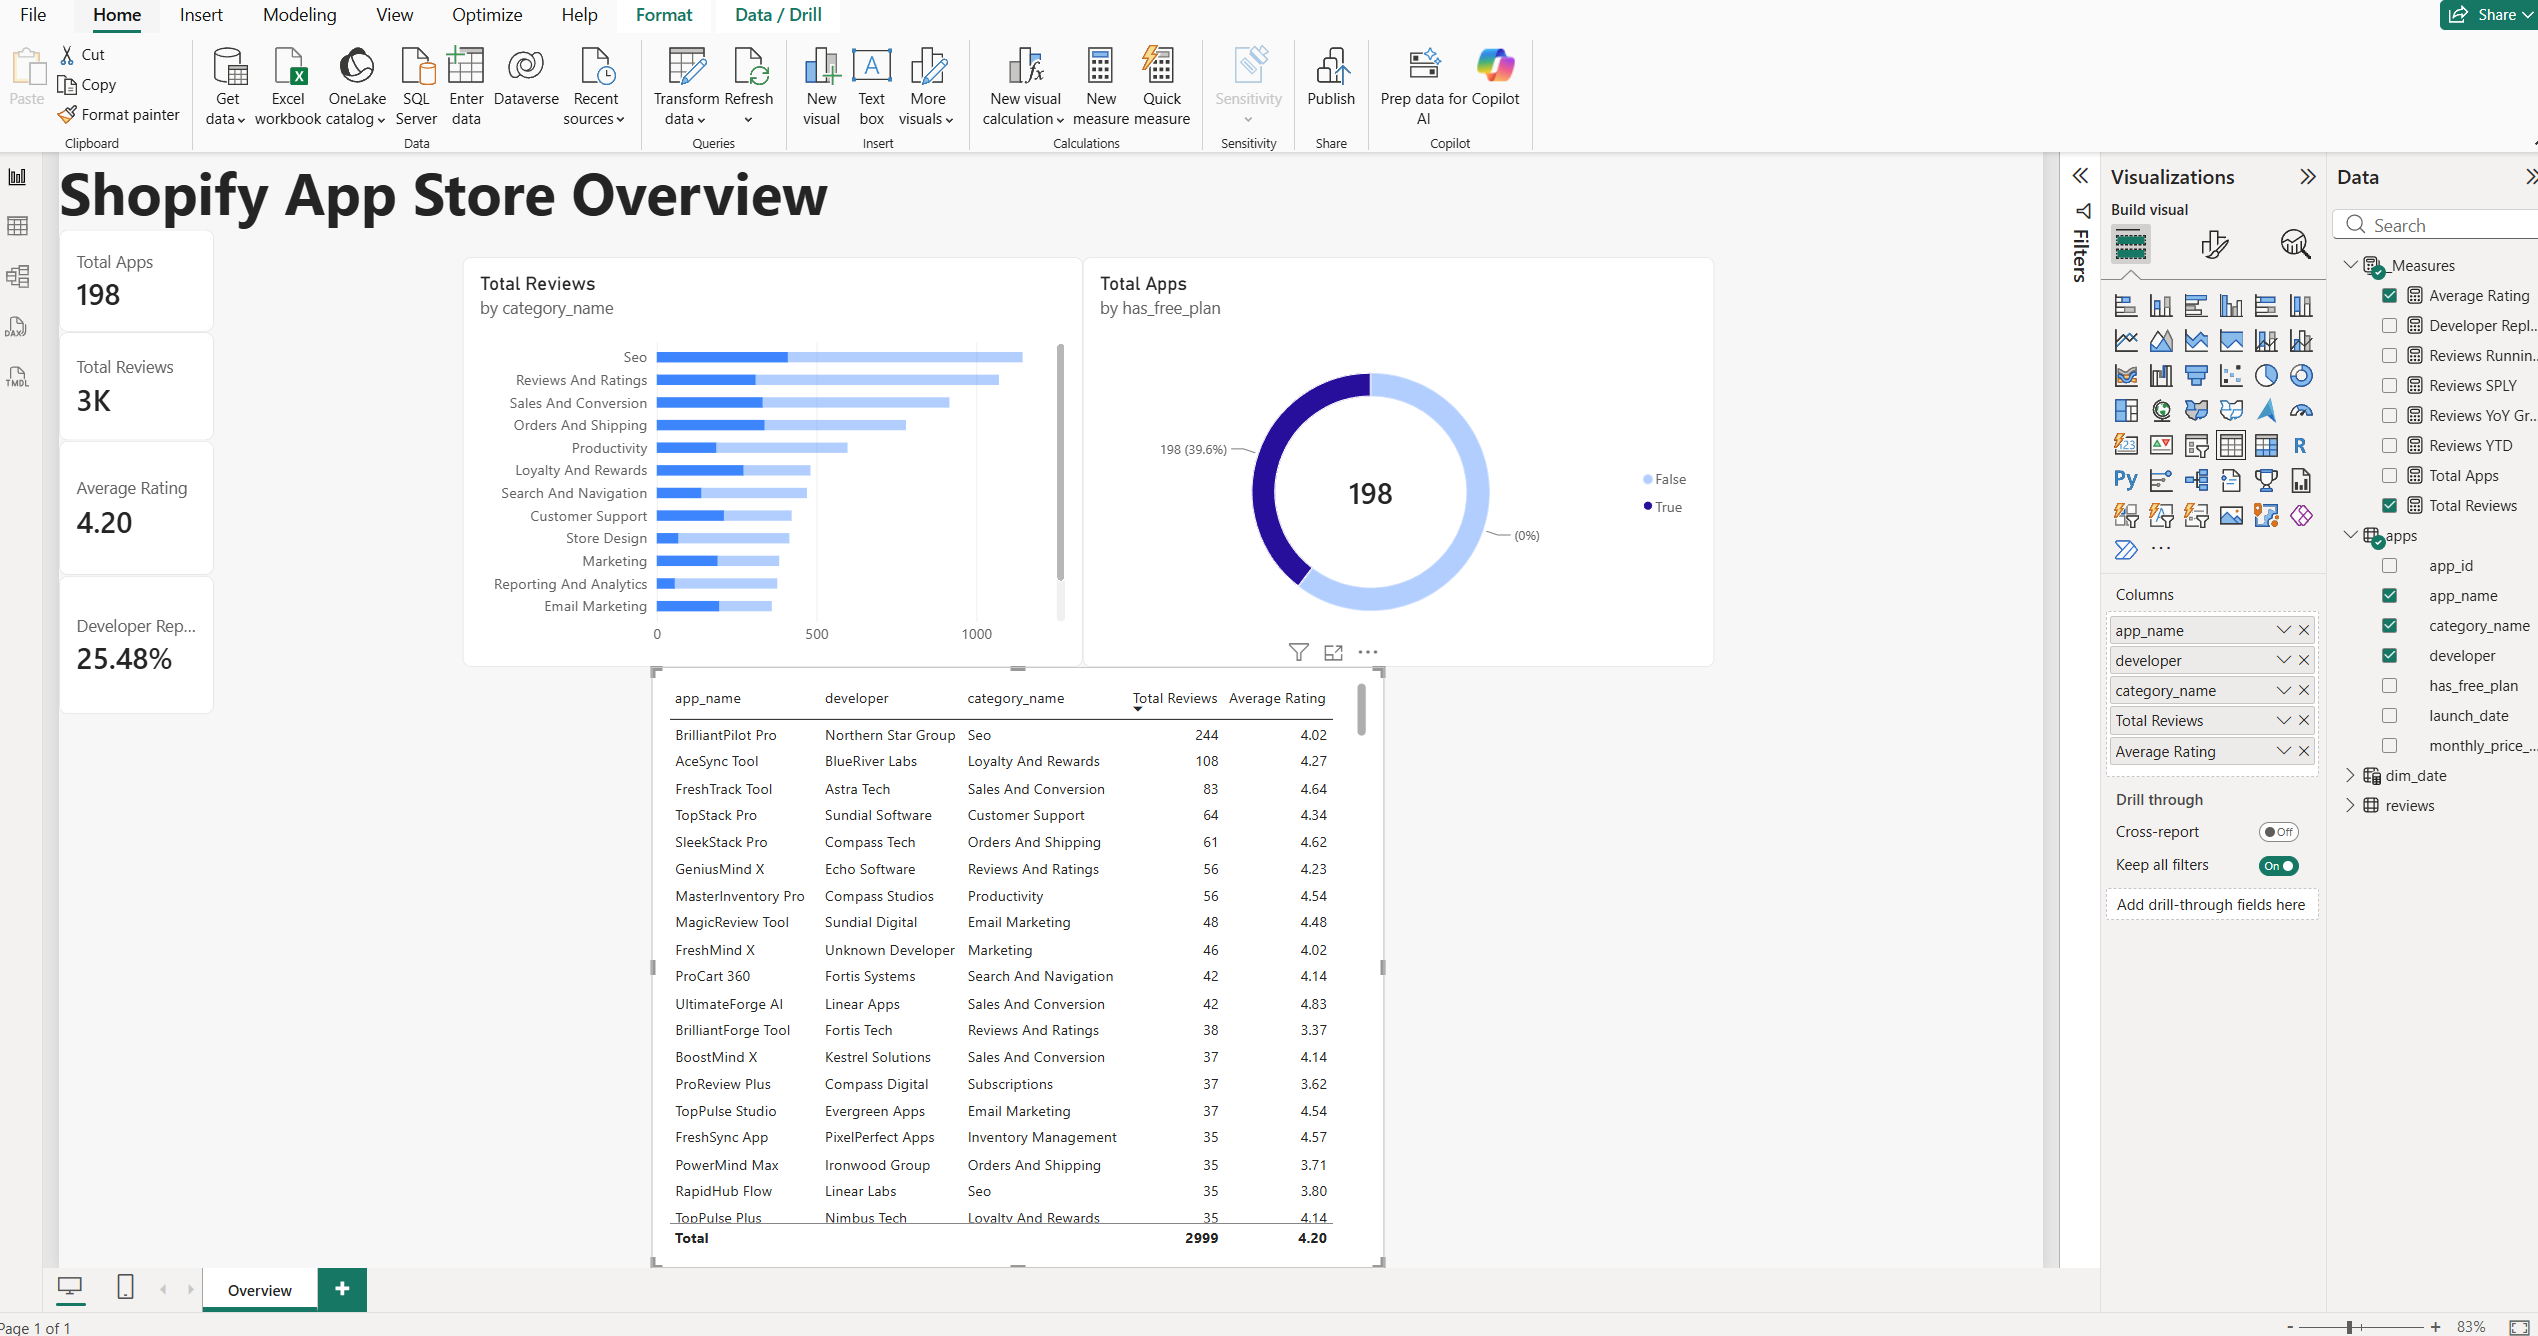

This screenshot's page, from the dashboard's own definition file:
{"tool":"powerbi","page":{"name":"Overview","canvas":[1920,1080],"ordinal":0},"visuals":[{"type":"textbox","box":[10,0,280,280],"z":0},{"type":"textbox","box":[0,0,814.1,419.8],"z":1000},{"type":"cardVisual","fields":{"Data":["_Measures.Total Apps"]},"box":[0,75.1,150.1,134.3],"z":2000},{"type":"cardVisual","fields":{"Data":["_Measures.Total Reviews"]},"box":[0,213.4,150.1,134.3],"z":3000},{"type":"cardVisual","fields":{"Data":["_Measures.Average Rating"]},"box":[0,354.3,150.1,134.3],"z":4000},{"type":"cardVisual","fields":{"Data":["_Measures.Developer Reply %"]},"box":[0,497.9,150.1,134.3],"z":5000},{"type":"clusteredBarChart","fields":{"Category":["apps.category_name"],"Y":["_Measures.Total Reviews"]},"box":[150.1,81.7,600,396.8],"z":6000},{"type":"donutChart","fields":{"Category":["apps.has_free_plan"],"Y":["_Measures.Total Apps"]},"box":[750.7,81.7,610.9,396.8],"z":7000},{"type":"tableEx","fields":{"Values":["apps.app_name","apps.developer","apps.category_name","_Measures.Total Reviews","_Measures.Average Rating"]},"box":[150.1,478.1,1211.7,582.1],"z":8000}]}

Visuals, with their boxes on the page's 1920x1080 design canvas (x1, y1, x2, y2). These are canvas units, not pixel positions in the 2538x1336 screenshot, which may show the page scaled, cropped or inside an application window:
textbox: 10 0 290 280
textbox: 0 0 814 420
cardVisual - _Measures.Total Apps: 0 75 150 209
cardVisual - _Measures.Total Reviews: 0 213 150 348
cardVisual - _Measures.Average Rating: 0 354 150 489
cardVisual - _Measures.Developer Reply %: 0 498 150 632
clusteredBarChart - apps.category_name x _Measures.Total Reviews: 150 82 750 478
donutChart - apps.has_free_plan x _Measures.Total Apps: 751 82 1362 478
tableEx - apps.app_name x apps.developer: 150 478 1362 1060
